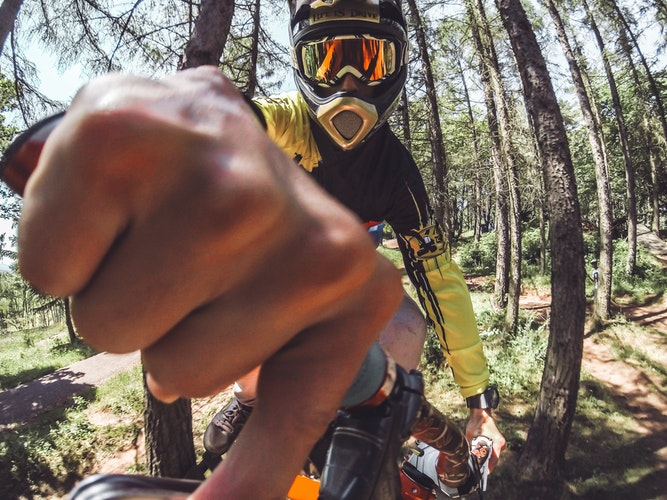helmet: (279, 4, 417, 143)
